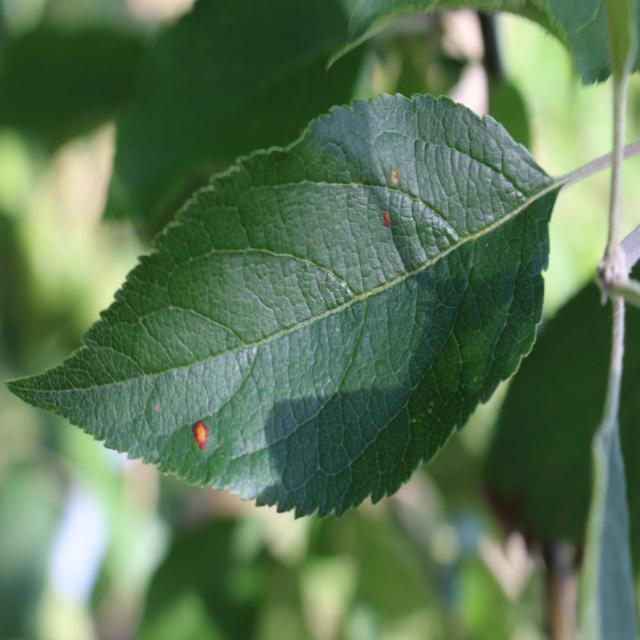Rust: (188, 410, 214, 475), (370, 199, 403, 240), (388, 152, 407, 194)
